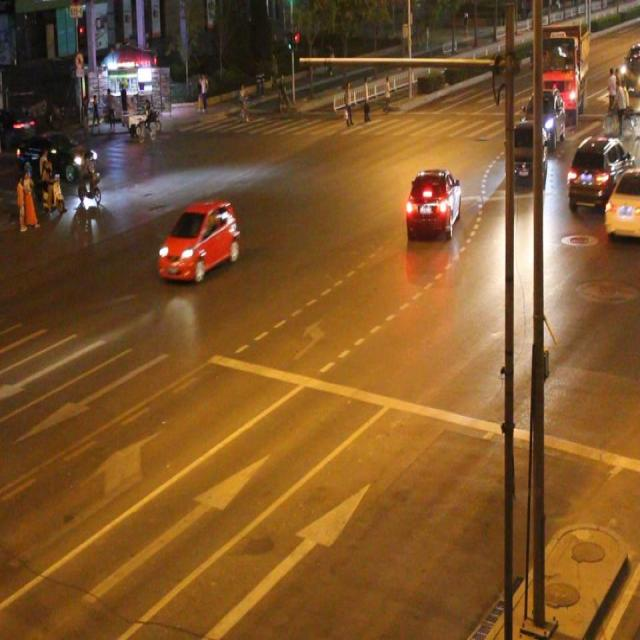car: (158, 199, 237, 283), (566, 132, 629, 209), (404, 167, 460, 240), (602, 165, 640, 239), (506, 120, 547, 186)
